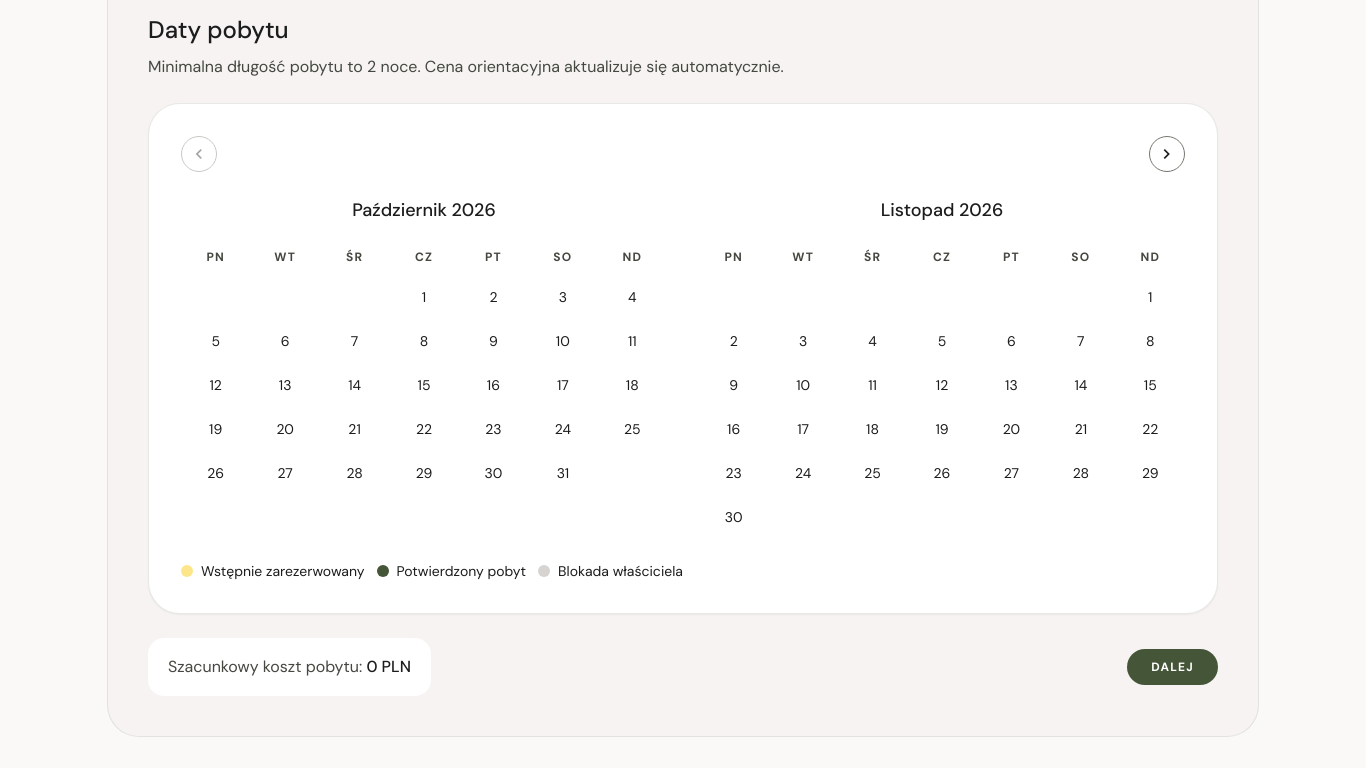
booking seasonal estimate › does not accumulate floating-point currency errors
The image size is (1366, 768).
(page scrolled)
Click the 2nd button "11". click: (873, 385)
box: [853, 365, 893, 405]
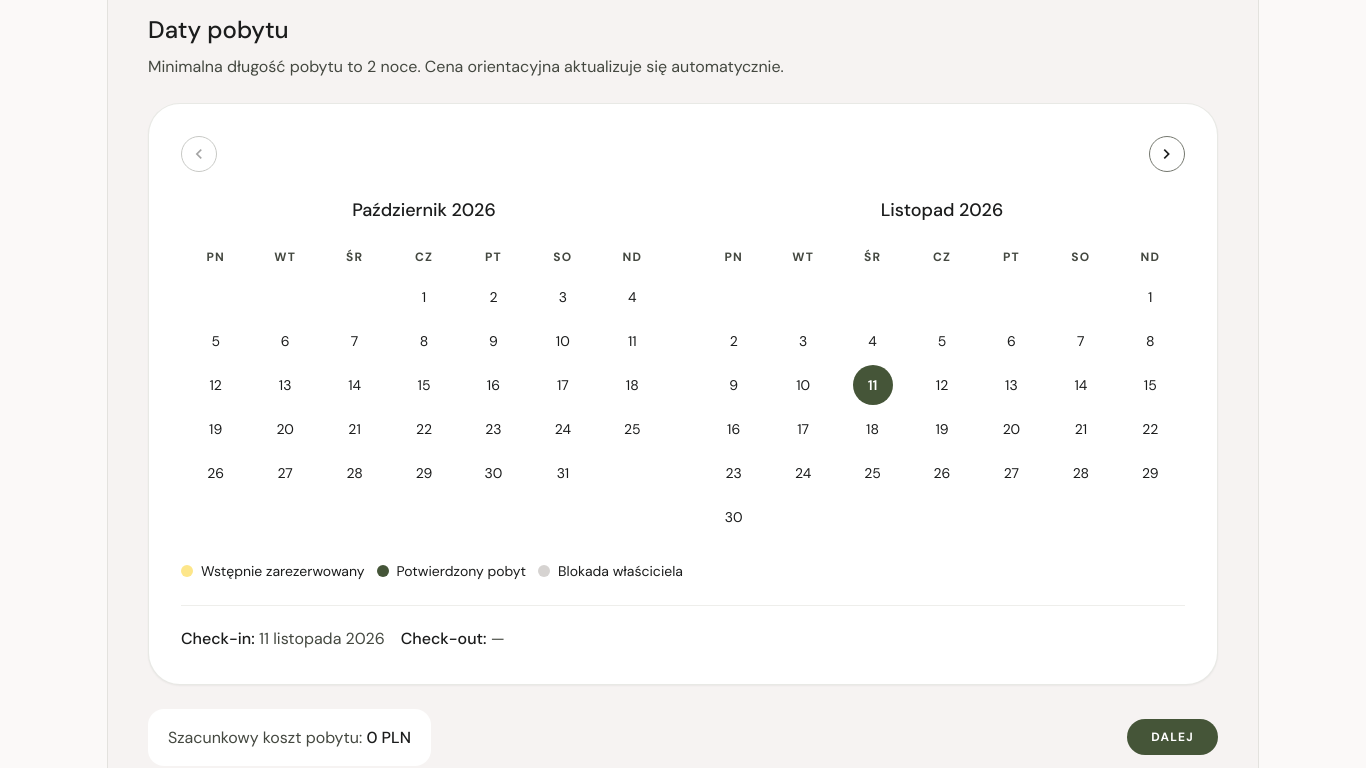
Click the 2nd button "14". click: (1081, 385)
box: [1061, 365, 1101, 405]
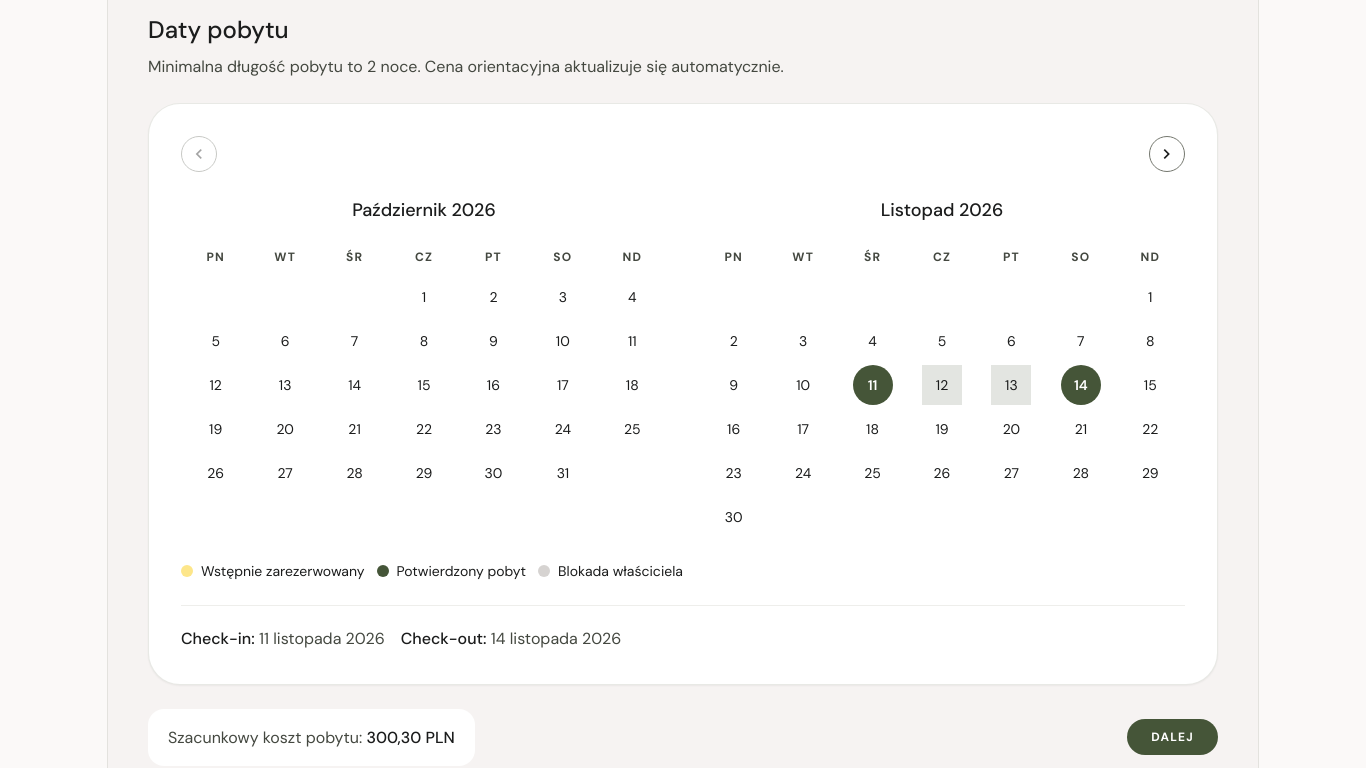
Now the text "300,30 PLN" is shown, box [366, 727, 455, 748]
